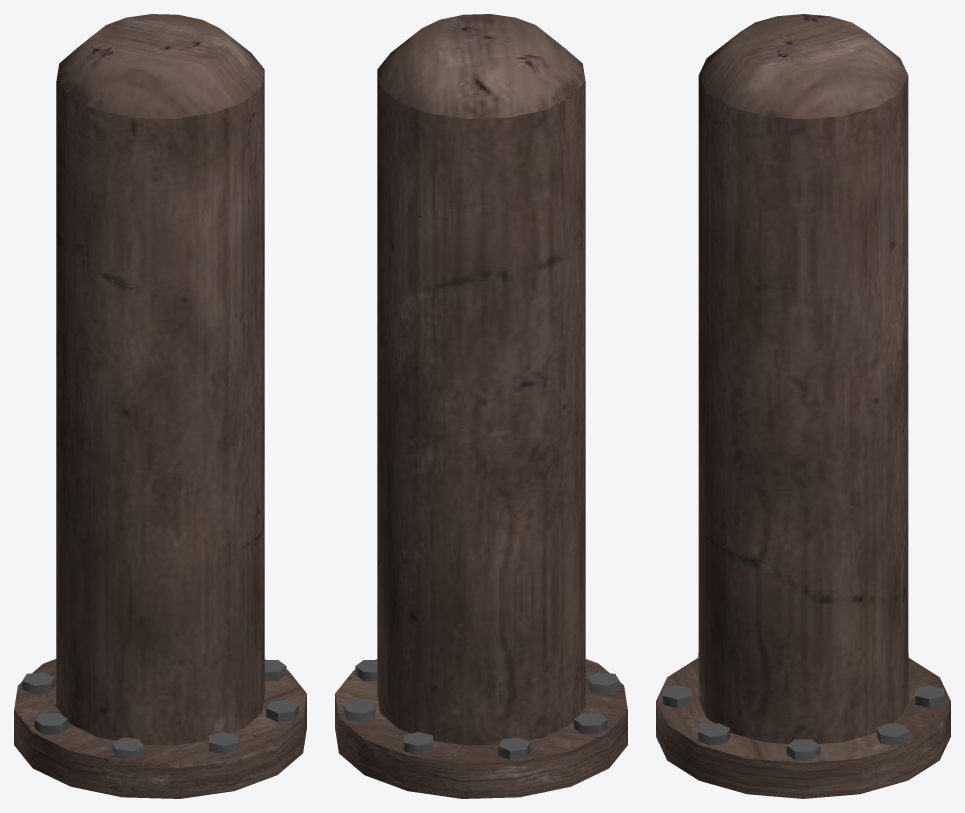
File: Dock_Dock_Bollard_1.gltf
The picture shows the model from 3 angles, left to right: view 1: azimuth 30°, elevation 25°; view 2: azimuth 150°, elevation 25°; view 3: azimuth 270°, elevation 25°; orthographic projection.
Parts seen in each view (by area): view 1: Dock_Dock_Bollard_1; view 2: Dock_Dock_Bollard_1; view 3: Dock_Dock_Bollard_1.
Part boxes in pixels (bbox=[...]): Dock_Dock_Bollard_1: bbox=[14, 14, 306, 798]; Dock_Dock_Bollard_1: bbox=[335, 14, 627, 798]; Dock_Dock_Bollard_1: bbox=[656, 14, 950, 798].
Size of the model in its own units: 0.3 by 0.7785 by 0.3.
Materials: 1 (1 with a texture image).
